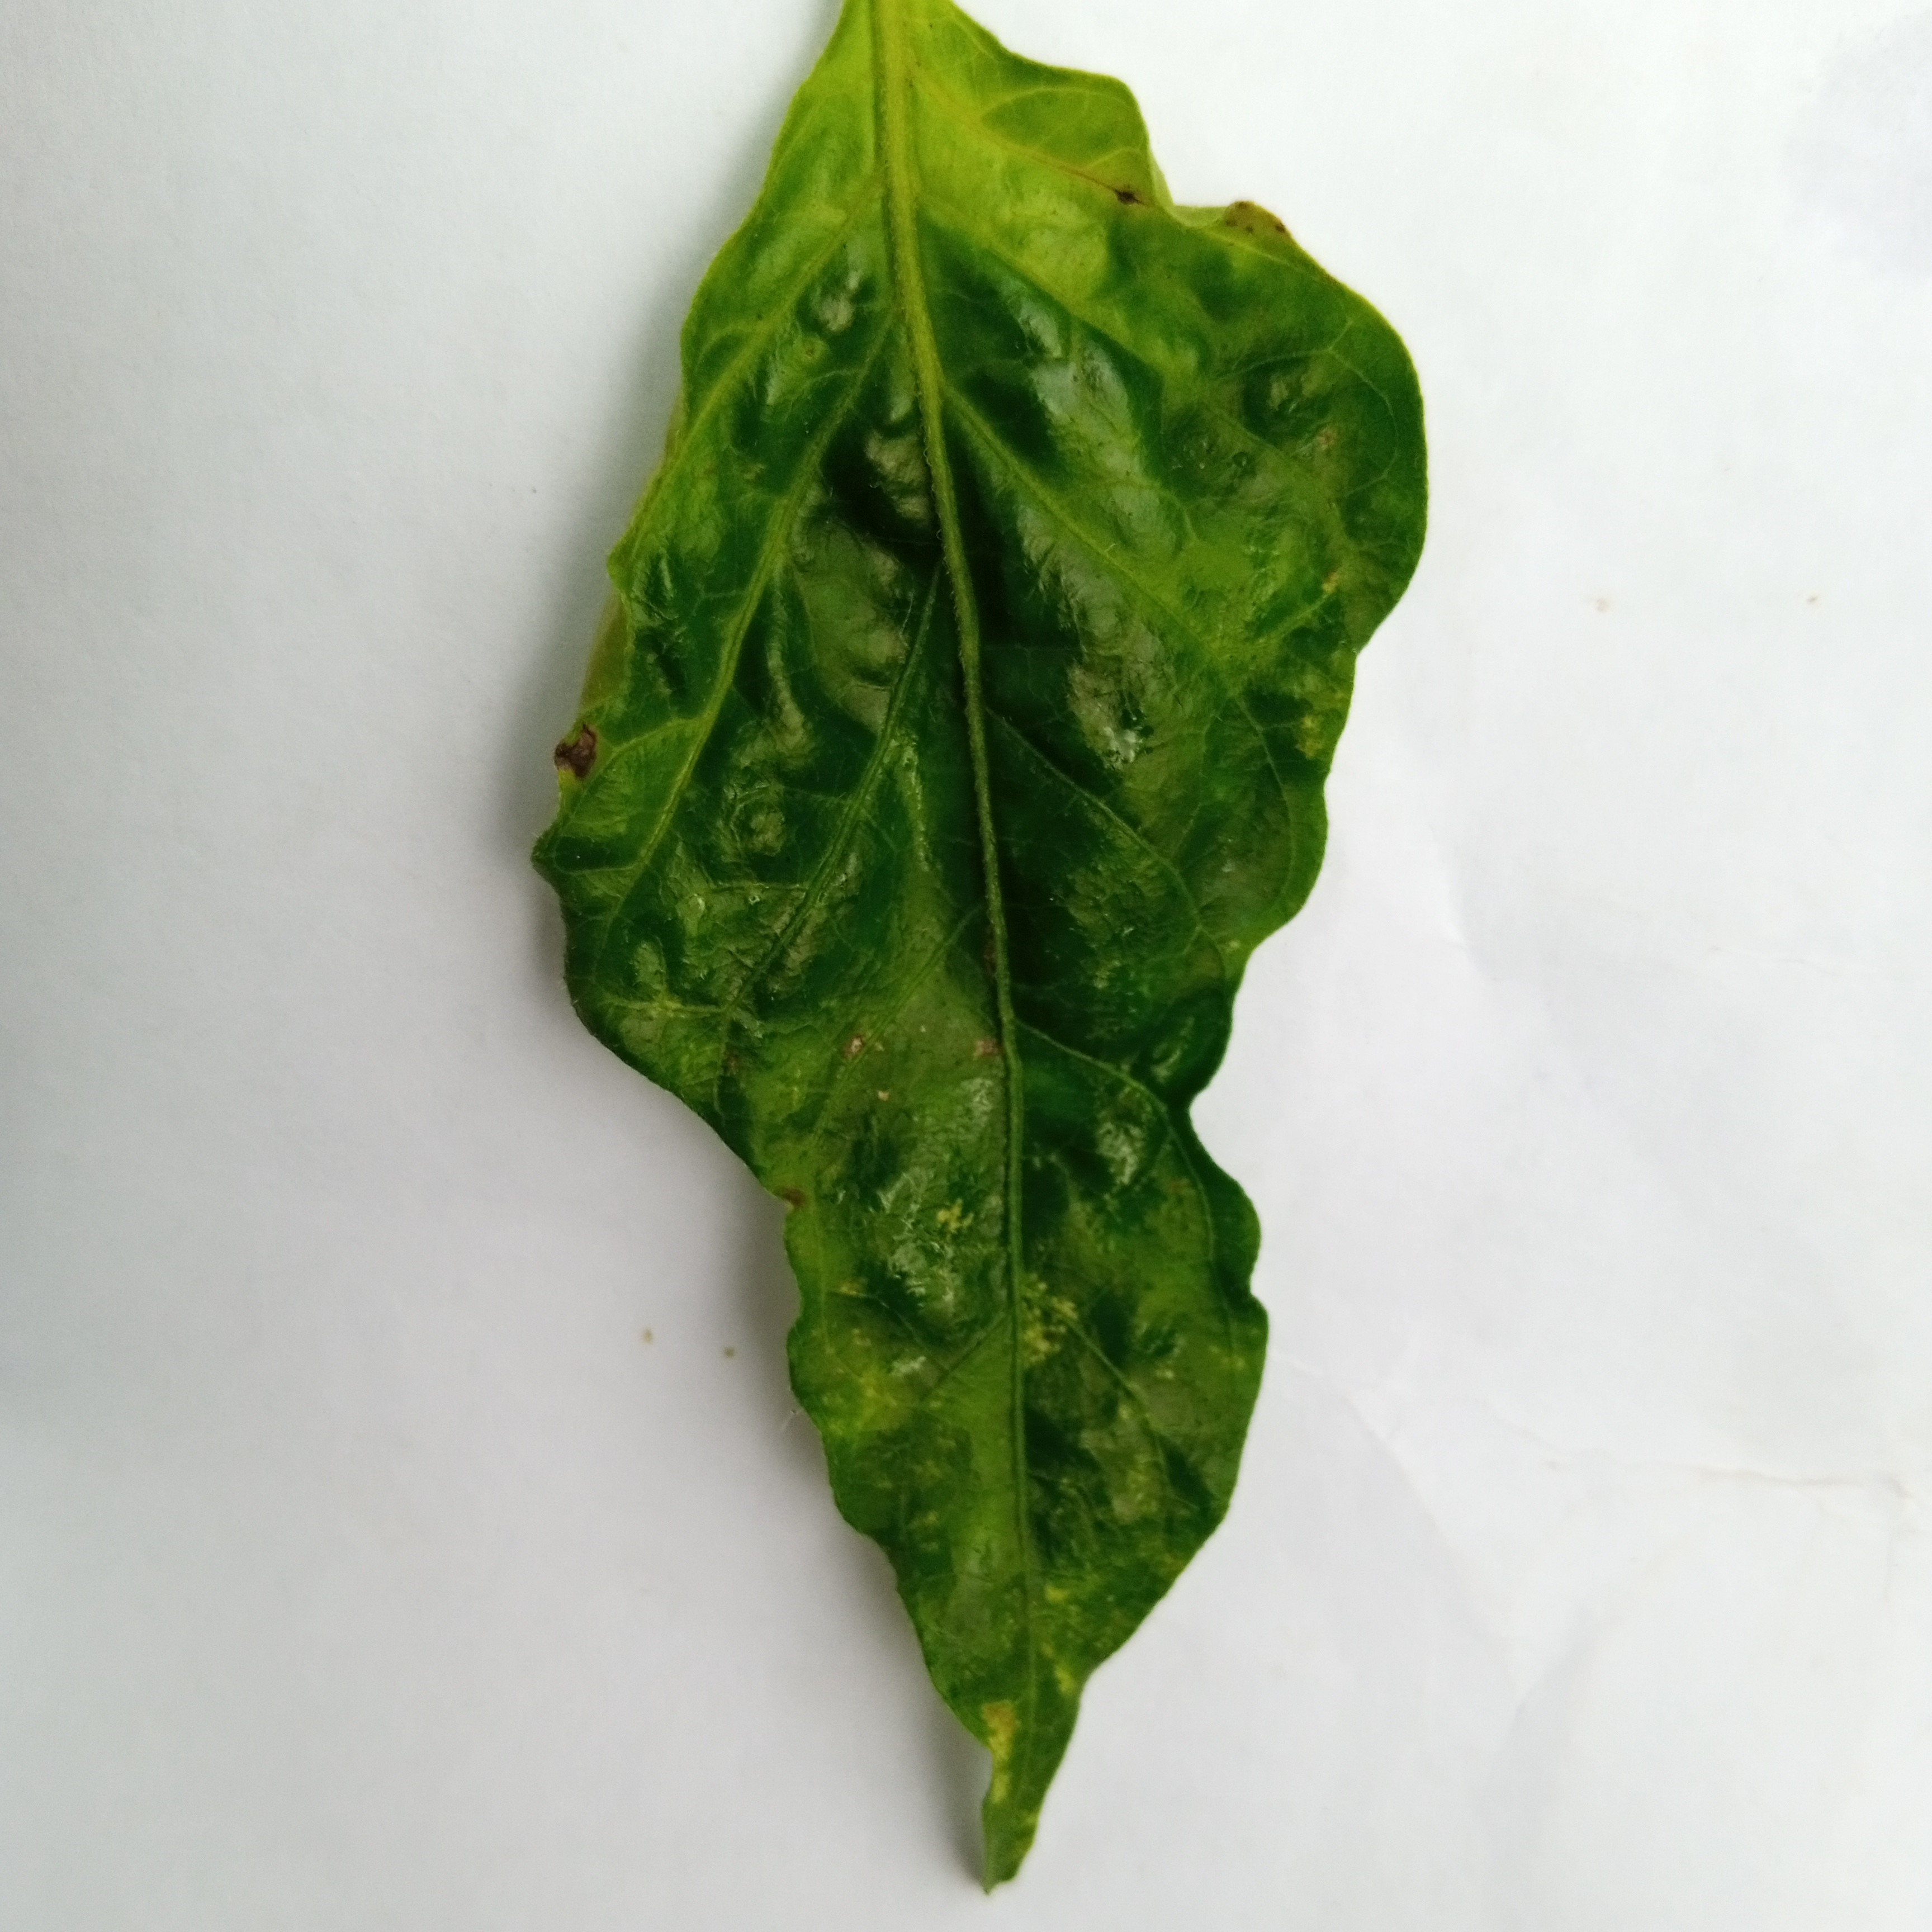Leaf: (372, 18, 1578, 1932)
